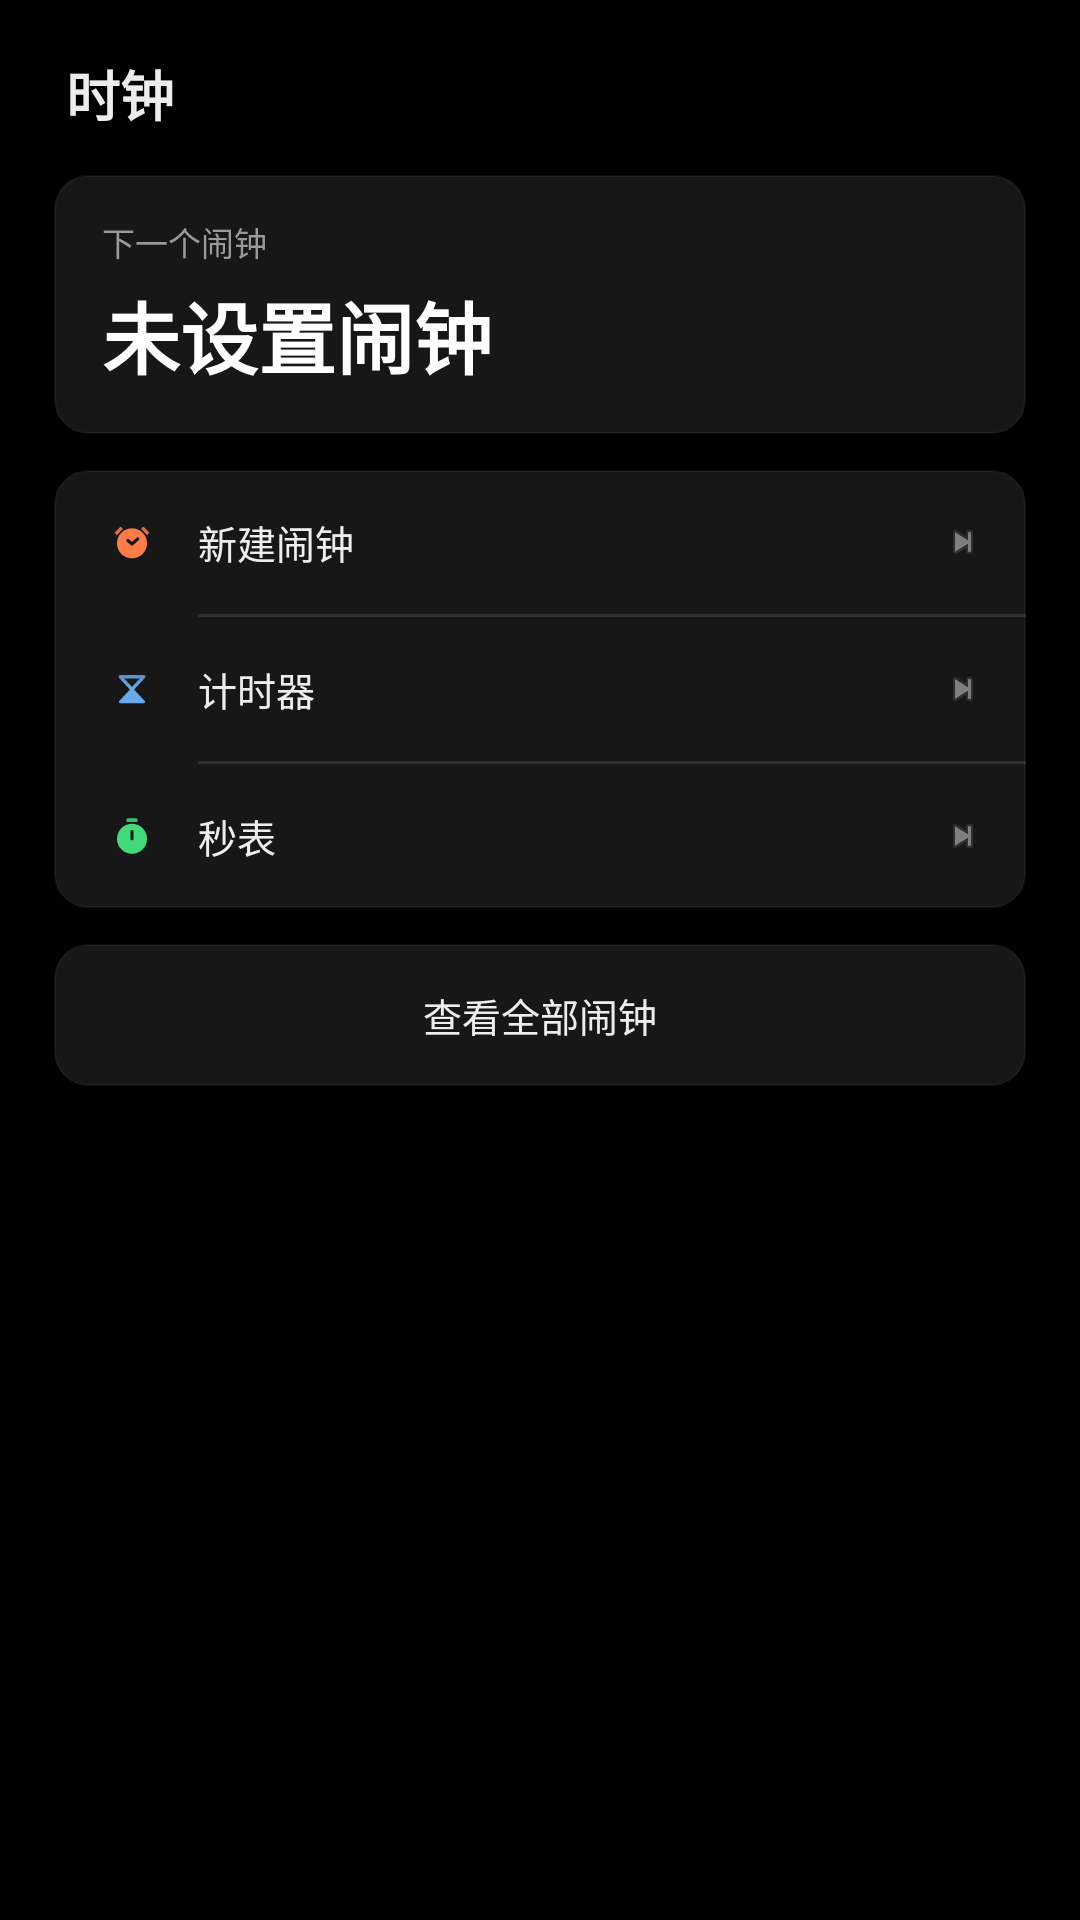

Where to tap for icons on this 1080w x 1920h app screen, as (x=x, y=y):
alarmclock: (x=132, y=542)
countdown: (x=132, y=689)
stopwatch: (x=132, y=836)
